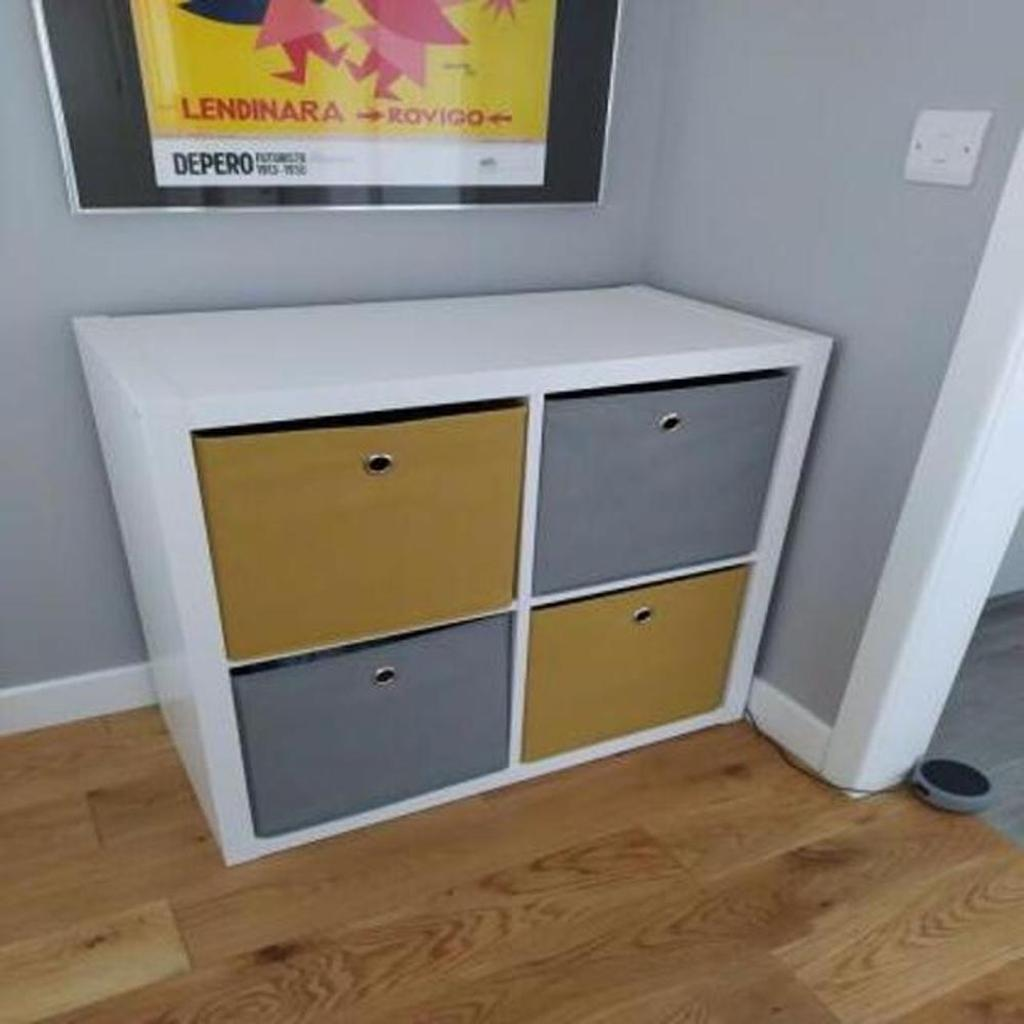lamp: (73, 282, 846, 870)
